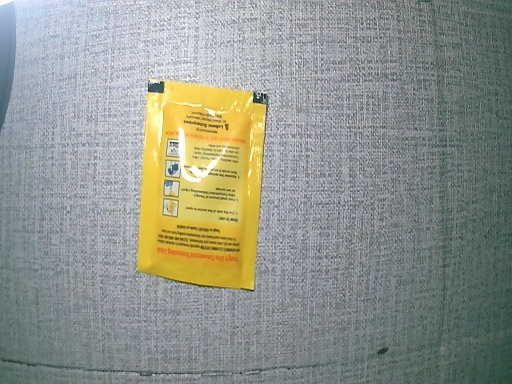plastic: (134, 79, 270, 294)
